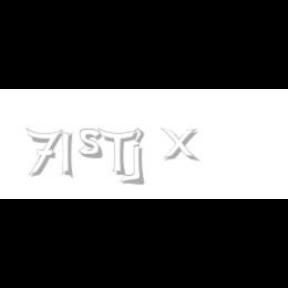7: (26, 128, 62, 178)
I: (62, 128, 74, 180)
T: (97, 128, 137, 176)
j: (130, 128, 158, 186)
s: (79, 128, 107, 160)
x: (161, 128, 203, 162)
